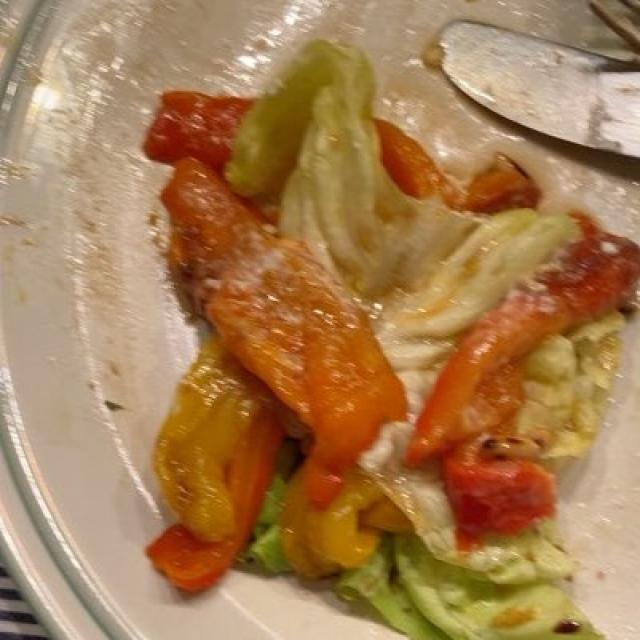bell-pepper-red-stewed-without-addition-of-fat-without-addition-of-salt: (141, 90, 639, 591)
salad-leaf-salad-green: (224, 40, 613, 636)
